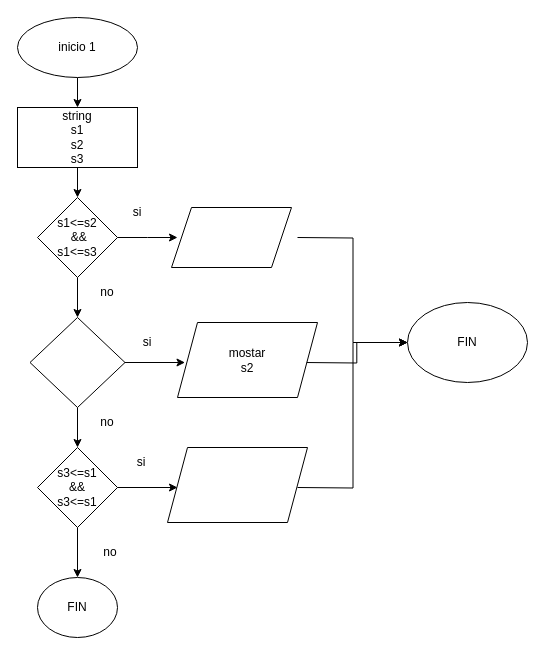
This 545x655 diagram has some shape labels left out. Each missing label, with the centre of its shape:
"mostar s1" goes at pixel 231 237.
"mostar s3" goes at pixel 237 484.
"s2 <= s3 && s2<=s1" goes at pixel 77 362.
